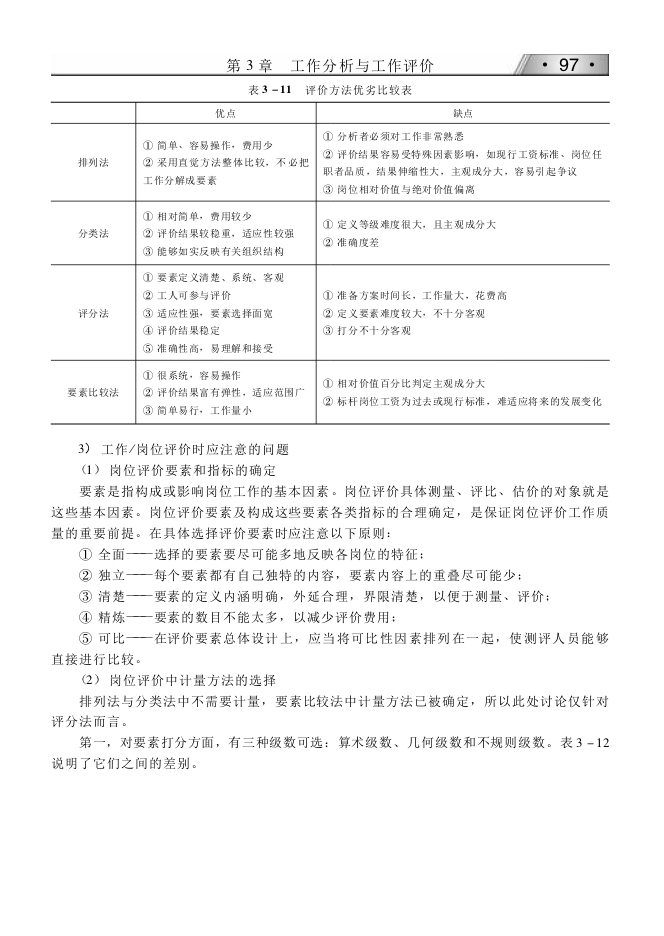table: (50, 101, 610, 424)
